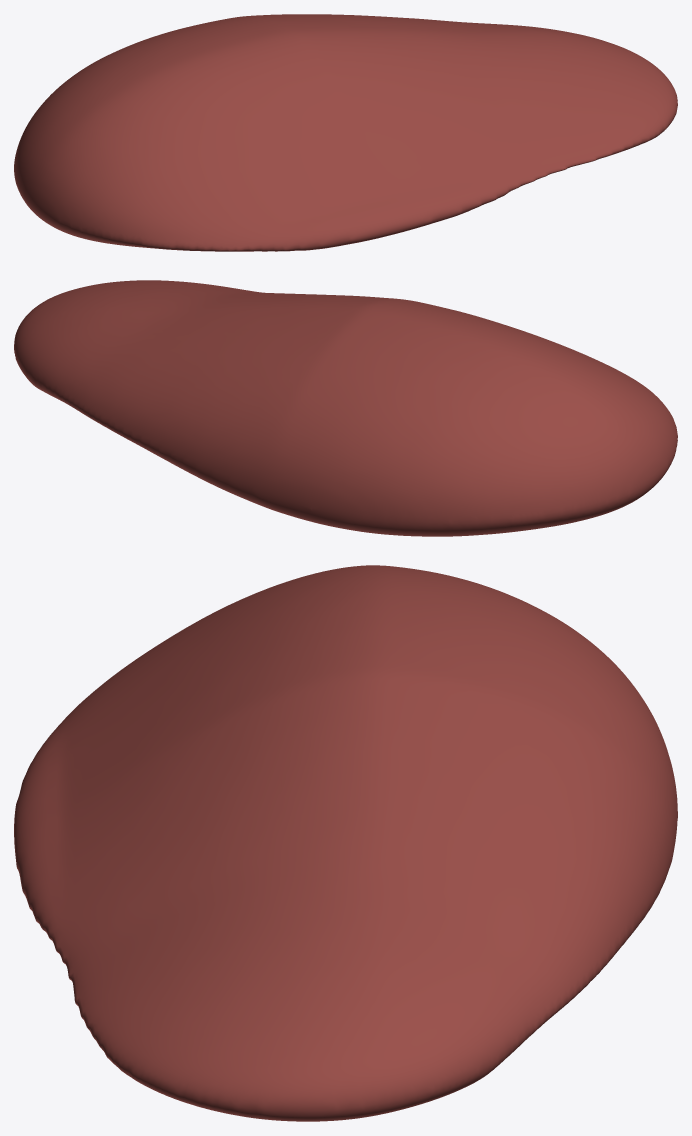
Rendered from lobe.glb.
3 views of the same model, one above another, from view 1: azimuth 30°, elevation 25°; view 2: azimuth 150°, elevation 25°; view 3: azimuth 270°, elevation 25° (orthographic). The views are drawn at different scales.
Parts seen in each view (by area): view 1: Lobe; view 2: Lobe; view 3: Lobe.
Boxes of the visible parts, bbox=[...] form: Lobe: bbox=[14, 14, 677, 251]; Lobe: bbox=[14, 280, 677, 536]; Lobe: bbox=[14, 565, 677, 1121].
Bounding box in the file's own units: 3.45 × 0.7559 × 2.07.
